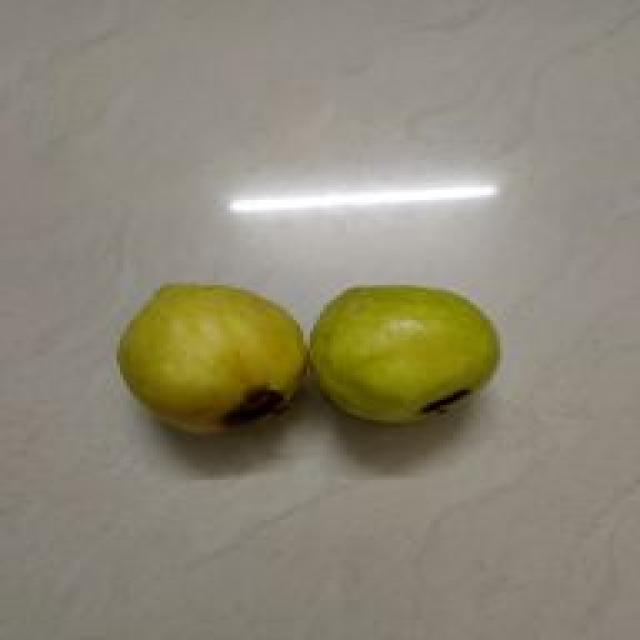Good_Guava: (117, 285, 307, 438), (310, 285, 503, 425)
